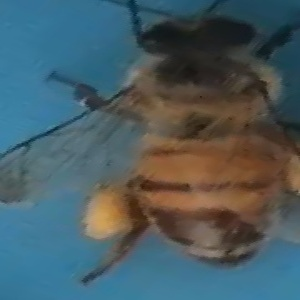bee: (73, 1, 295, 291)
